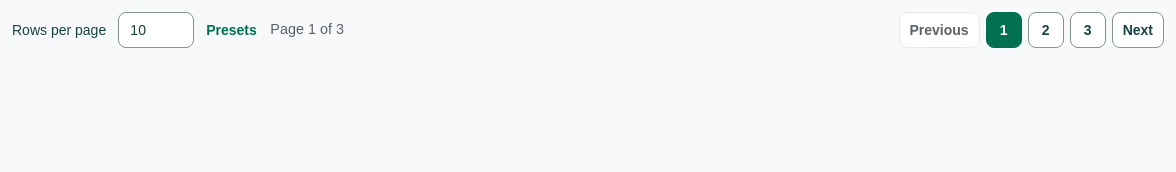
Test case: the rows-per-page control › holds a typed size inside 1 to 100, and reads back what it holds
This screenshot has width=1176, height=172.
Replace the text in the number field named "Rows per page" with "500" at (156, 30), box [118,12,194,48]
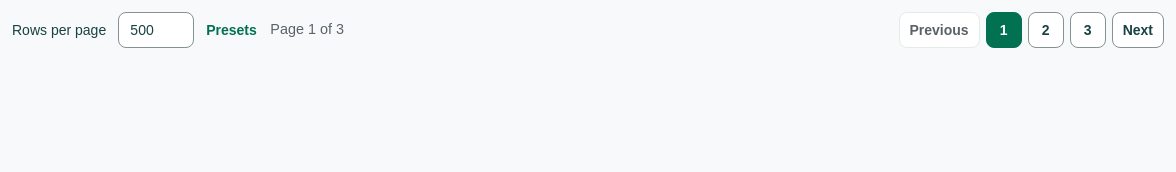
Press Enter in the number field named "Rows per page", box [118,12,194,48]
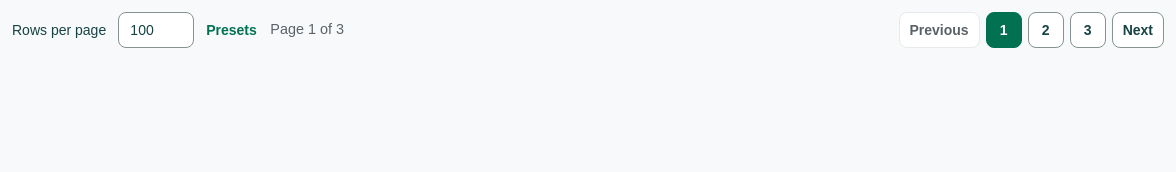
Check: the number field named "Rows per page" holds "100", box [118,12,194,48]
